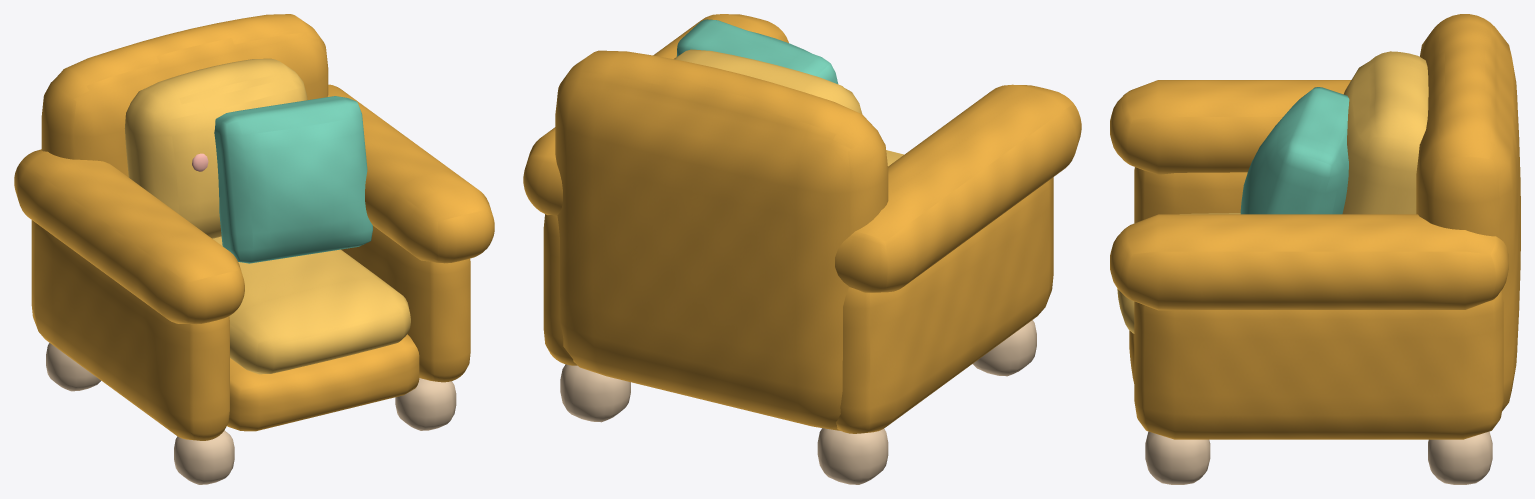
Rendered from armchair.glb.
3 views of the same model, side by side, from view 1: azimuth 30°, elevation 25°; view 2: azimuth 150°, elevation 25°; view 3: azimuth 270°, elevation 25° (orthographic). The views are drawn at different scales.
Visible parts, largest first — view 1: ArmchairCartoon_Frame, ArmchairCartoon_Cushions, ArmchairCartoon_Deco, ArmchairCartoon_Feet; view 2: ArmchairCartoon_Frame, ArmchairCartoon_Feet, ArmchairCartoon_Deco, ArmchairCartoon_Cushions; view 3: ArmchairCartoon_Frame, ArmchairCartoon_Cushions, ArmchairCartoon_Deco, ArmchairCartoon_Feet.
Part boxes in pixels (<box>): ArmchairCartoon_Frame: <box>14,14,494,440</box>; ArmchairCartoon_Cushions: <box>124,58,410,374</box>; ArmchairCartoon_Deco: <box>192,96,372,263</box>; ArmchairCartoon_Feet: <box>46,343,456,484</box>; ArmchairCartoon_Frame: <box>523,14,1081,433</box>; ArmchairCartoon_Feet: <box>560,320,1036,484</box>; ArmchairCartoon_Deco: <box>676,19,838,83</box>; ArmchairCartoon_Cushions: <box>674,49,903,166</box>; ArmchairCartoon_Frame: <box>1110,14,1520,439</box>; ArmchairCartoon_Cushions: <box>1117,51,1428,333</box>; ArmchairCartoon_Deco: <box>1240,87,1349,214</box>; ArmchairCartoon_Feet: <box>1145,431,1492,484</box>.
Size of what is drawn, in the model's own units: 0.8729 by 0.8091 by 0.844.
Materials: 5 (3 with a texture image).
